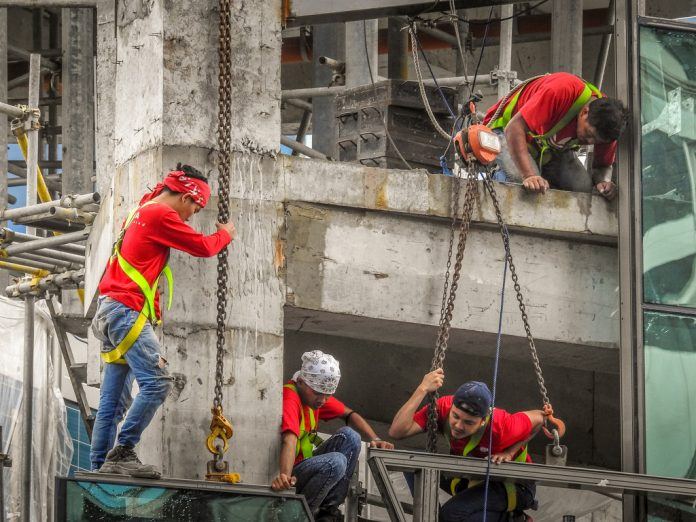Person: (88, 166, 237, 477), (389, 366, 547, 522), (483, 67, 628, 201), (282, 353, 393, 520)
